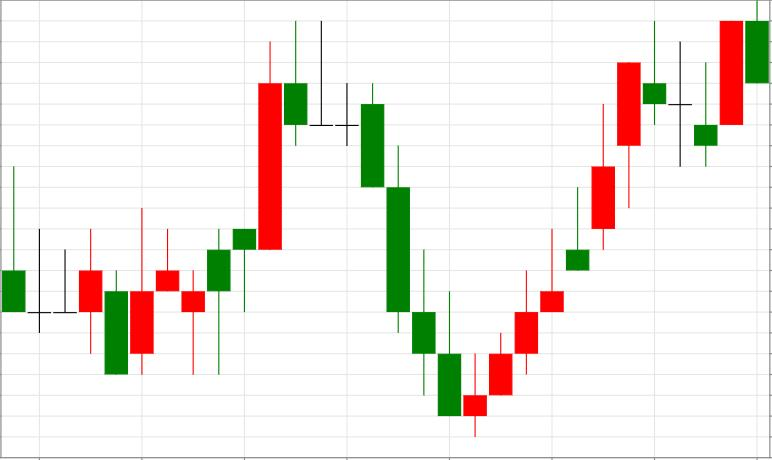shooting_star_fall: (130, 22, 307, 373)
three_black_crows_fall: (130, 22, 436, 396)
